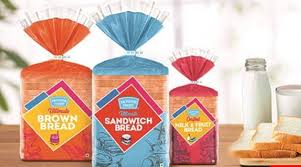bread: (84, 1, 170, 167), (17, 7, 92, 163), (163, 48, 223, 167), (234, 116, 301, 166)
milk: (238, 55, 301, 120)
